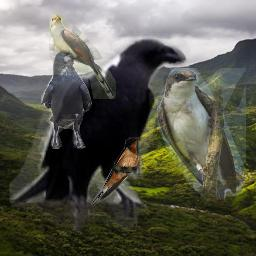Crow: (8, 33, 190, 240), (41, 49, 92, 149)
Cuckoo: (49, 13, 116, 99)
Swallow: (157, 68, 246, 201), (89, 136, 142, 205)
